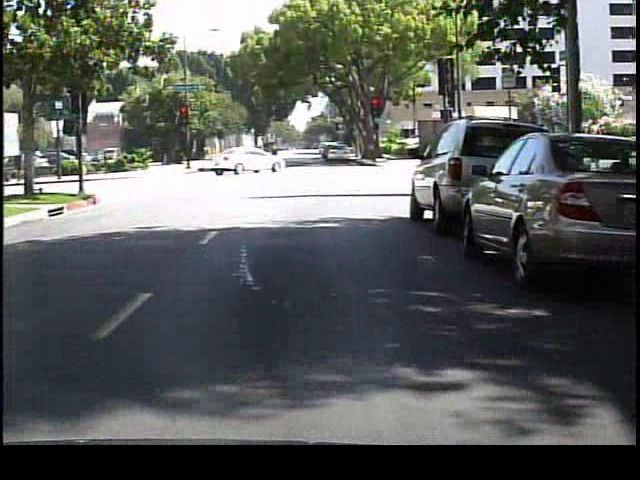person: (270, 140, 285, 171)
